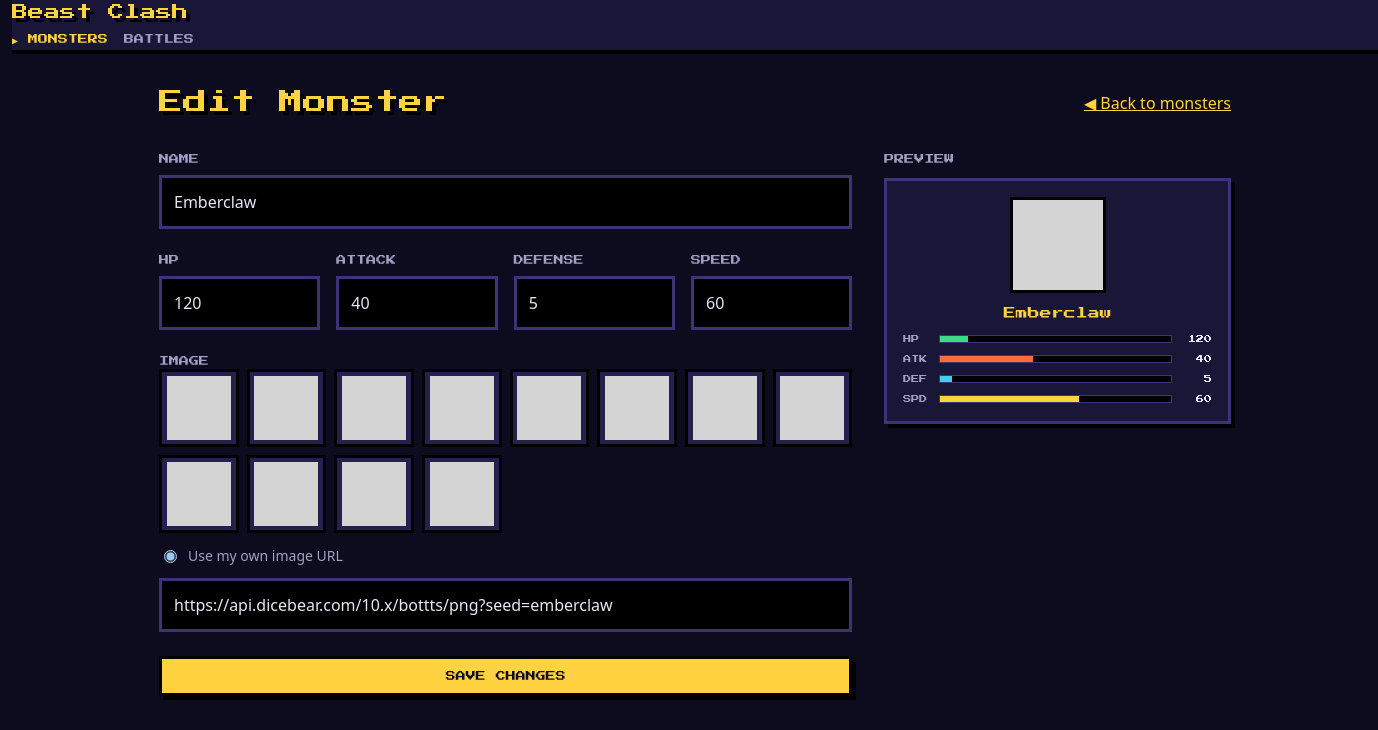
Test: MonsterEditPage › keeps the user on the form when the API rejects the change
Step 1. Replace the text in the field labelled "Name" with "Voltwing" → [506, 202], box [159,175,852,229]
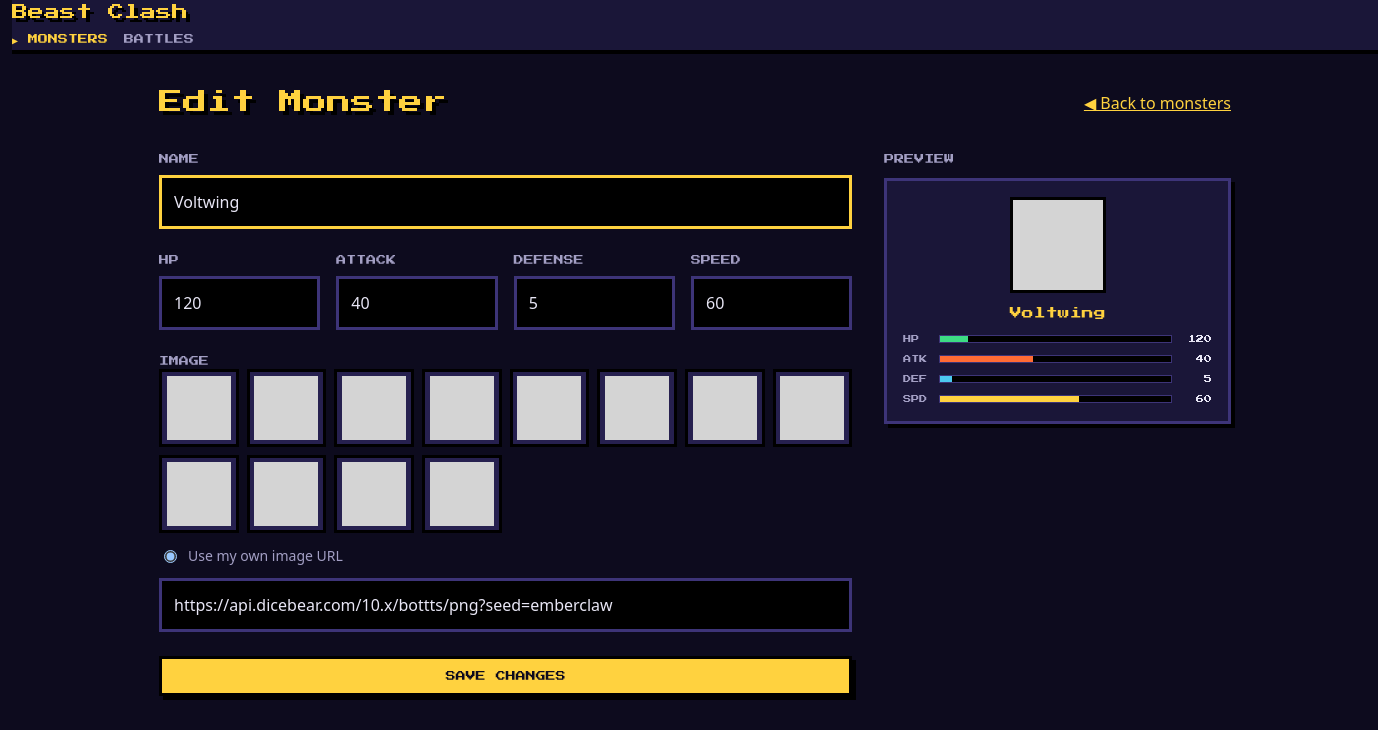
Step 2. Click the button "Save changes" → [506, 676], box [159,656,852,696]
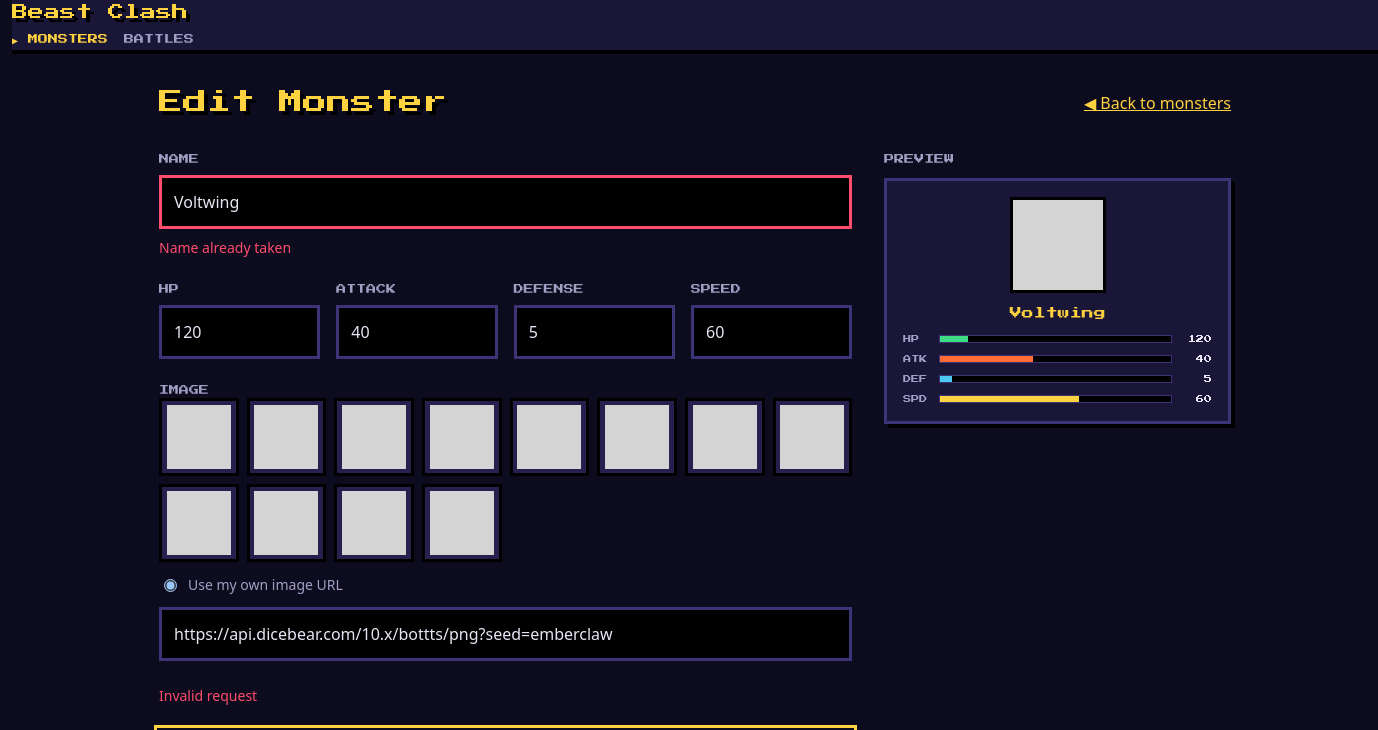
Expected: the heading "Edit Monster" is shown, [159,86,447,120]
Expected: the text "Name already taken" is shown, [159,238,291,257]
